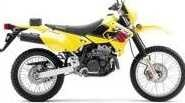motorcycle: (3, 3, 185, 101)
